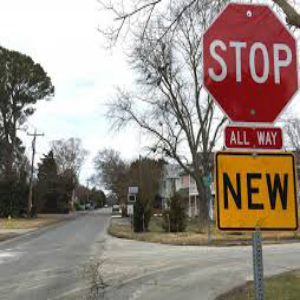STOP_SIGN: (201, 1, 300, 124)
